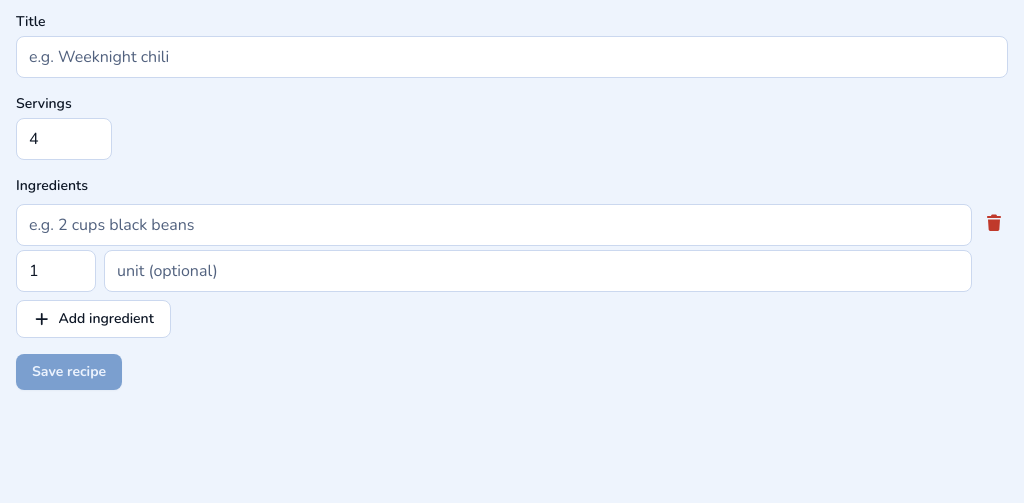
Test: RecipeForm › adds and removes ingredient rows
Expected: the number of fields labelled "e.g. 2 cups black beans" is 1, [16,204,972,246]
Click the button "Add ingredient".
click(93, 319)  # box [16,300,171,338]
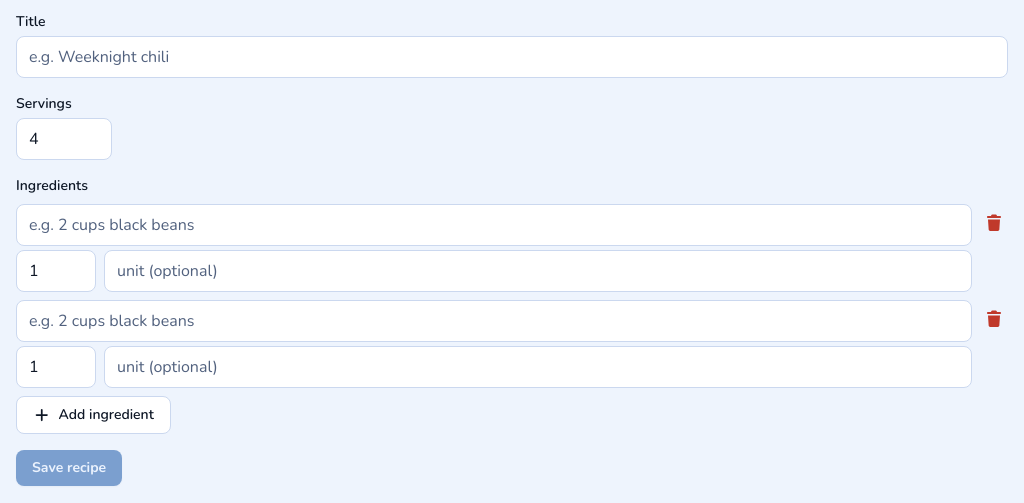
Expected: the number of fields labelled "e.g. 2 cups black beans" is 2, [16,204,972,246]; [16,300,972,342]
Click the button named "remove ingredient 2".
click(994, 320)  # box [980,304,1008,336]
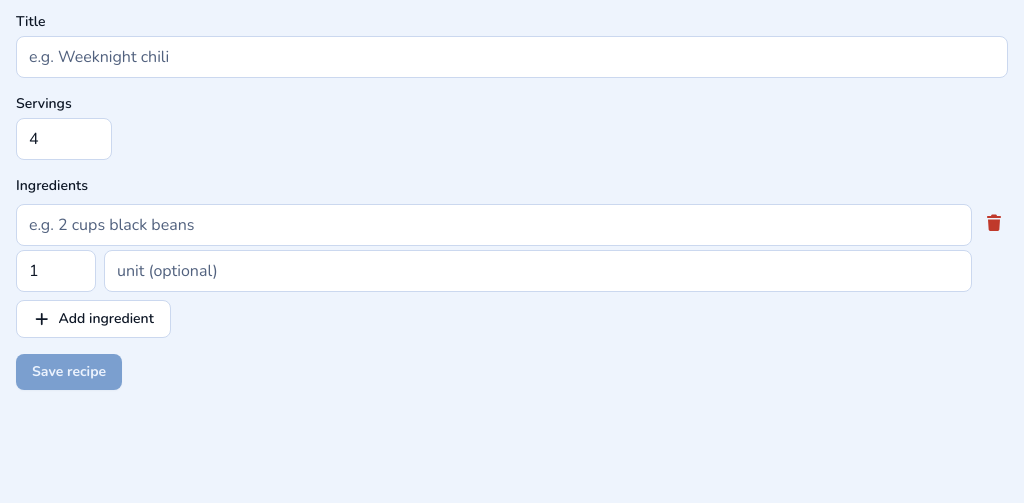
Expected: the number of fields labelled "e.g. 2 cups black beans" is 1, [16,204,972,246]
